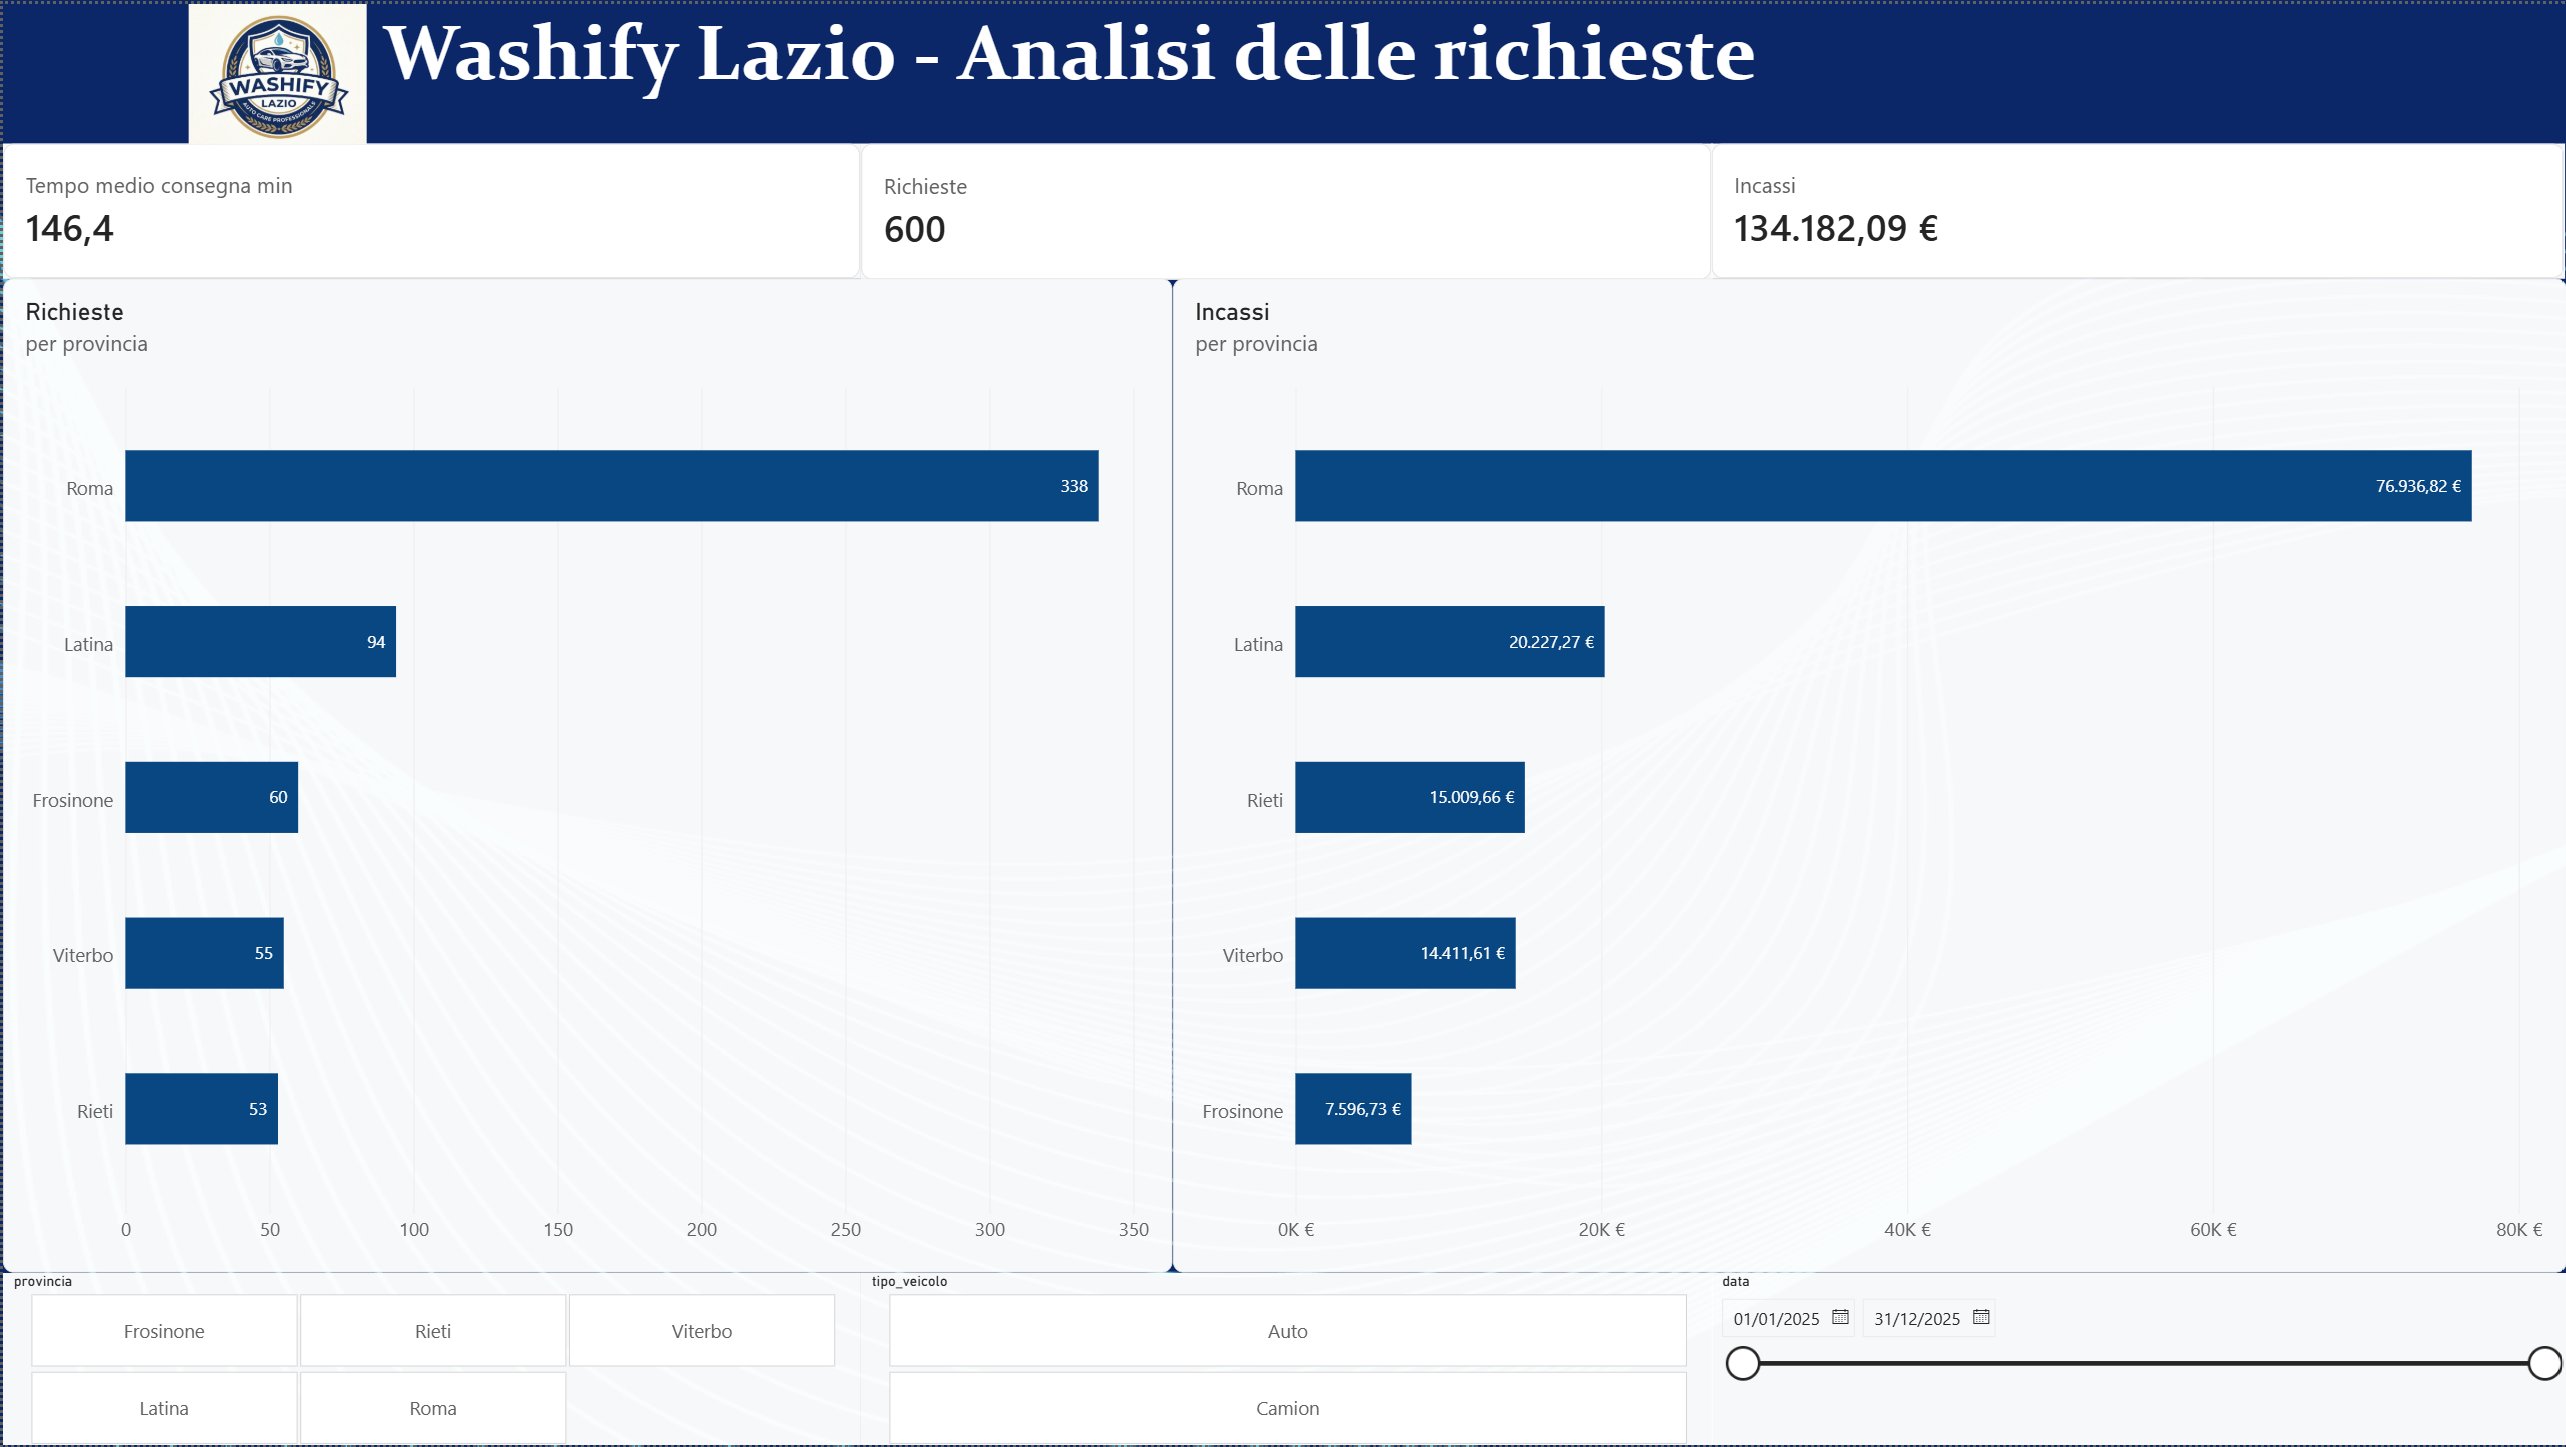

The page's visual inventory and layout, read from the dashboard file:
{"tool":"powerbi","page":{"name":"Panoramica","canvas":[1920,1080],"ordinal":0},"visuals":[{"type":"cardVisual","fields":{"Data":["dim_cliente.Tempo medio consegna"]},"box":[0,104.6,642.5,101.1],"z":0},{"type":"cardVisual","fields":{"Data":["dim_cliente.Richieste"]},"box":[642.5,104.6,637.8,102.2],"z":1000},{"type":"cardVisual","fields":{"Data":["dim_cliente.Incassi"]},"box":[1280.3,104.6,639,101.1],"z":2000},{"type":"clusteredBarChart","fields":{"Category":["dim_cliente.provincia"],"Y":["fact_richieste.Richieste"]},"box":[0,205.6,876,744.7],"z":3000},{"type":"clusteredBarChart","fields":{"Category":["dim_cliente.provincia"],"Y":["fact_richieste.Incassi"]},"box":[876,205.6,1043.3,744.7],"z":4000},{"type":"slicer","fields":{"Values":["dim_cliente.provincia"]},"box":[0,950.3,642.5,130.1],"z":5000},{"type":"slicer","fields":{"Values":["dim_prodotto.tipo_veicolo"]},"box":[642.5,950.3,637.8,130.1],"z":6000},{"type":"slicer","fields":{"Values":["dim_tempo.data"]},"box":[1280.3,950.3,640.1,130.1],"z":7000},{"type":"textbox","box":[284.6,0,1301.2,104.6],"z":8000},{"type":"image","box":[137,0,137,105.4],"z":9000}]}

Visuals, with their boxes in screenshot pixels (x1, y1, x2, y2), scaled from the page's 1920x1080 canvas onto the 2566x1447 screenshot:
cardVisual - dim_cliente.Tempo medio consegna: <box>0,140,859,276</box>
cardVisual - dim_cliente.Richieste: <box>859,140,1711,277</box>
cardVisual - dim_cliente.Incassi: <box>1711,140,2565,276</box>
clusteredBarChart - dim_cliente.provincia x fact_richieste.Richieste: <box>0,275,1171,1273</box>
clusteredBarChart - dim_cliente.provincia x fact_richieste.Incassi: <box>1171,275,2565,1273</box>
slicer - dim_cliente.provincia: <box>0,1273,859,1446</box>
slicer - dim_prodotto.tipo_veicolo: <box>859,1273,1711,1446</box>
slicer - dim_tempo.data: <box>1711,1273,2565,1446</box>
textbox: <box>380,0,2119,140</box>
image: <box>183,0,366,141</box>
